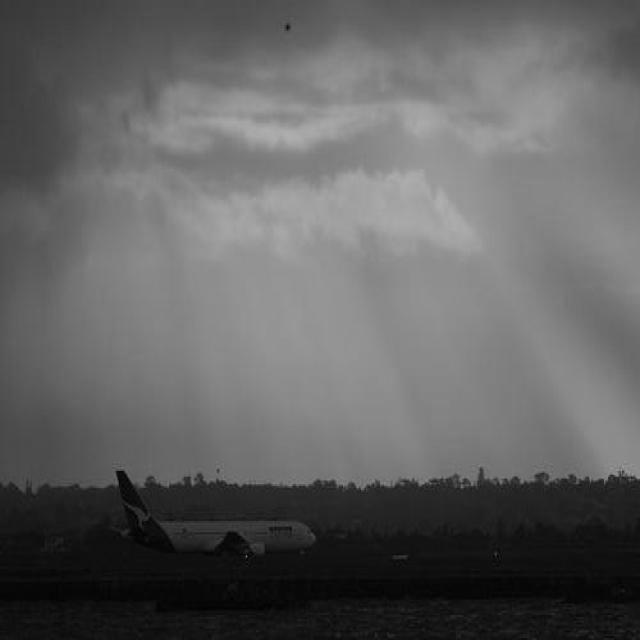aeroplane: (111, 466, 318, 578)
